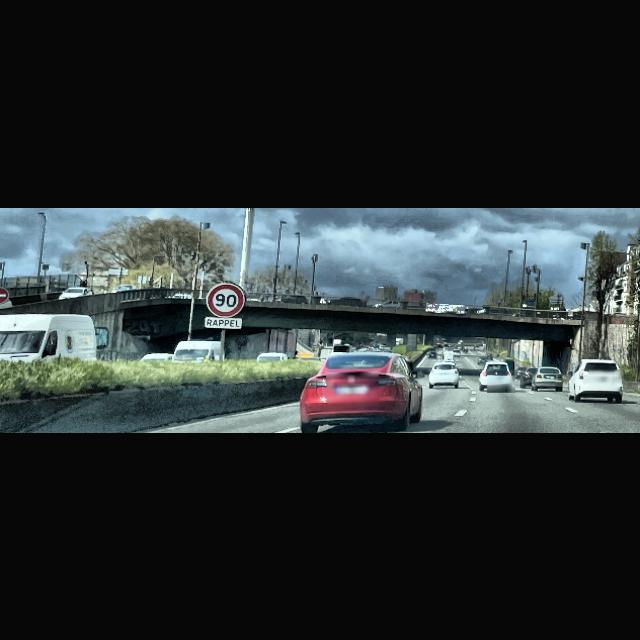speed_90: (206, 282, 246, 318)
